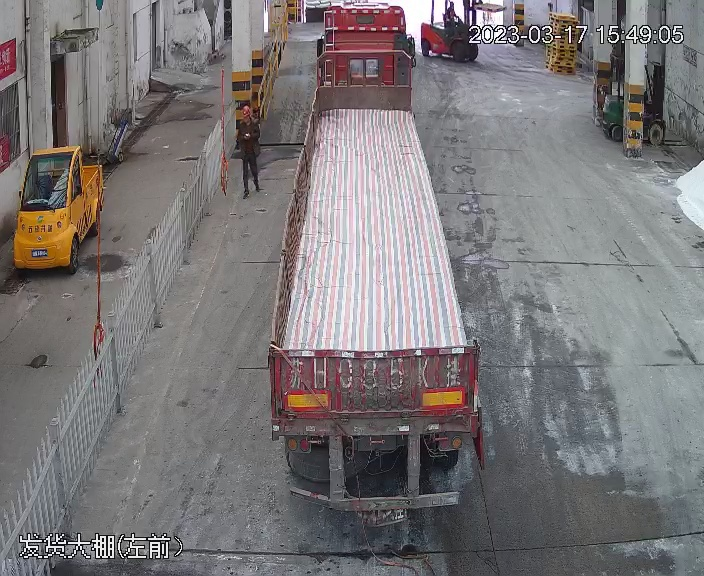head: (234, 103, 263, 133)
helmet: (241, 105, 251, 119)
people: (233, 101, 267, 198)
truck: (258, 5, 491, 534)
